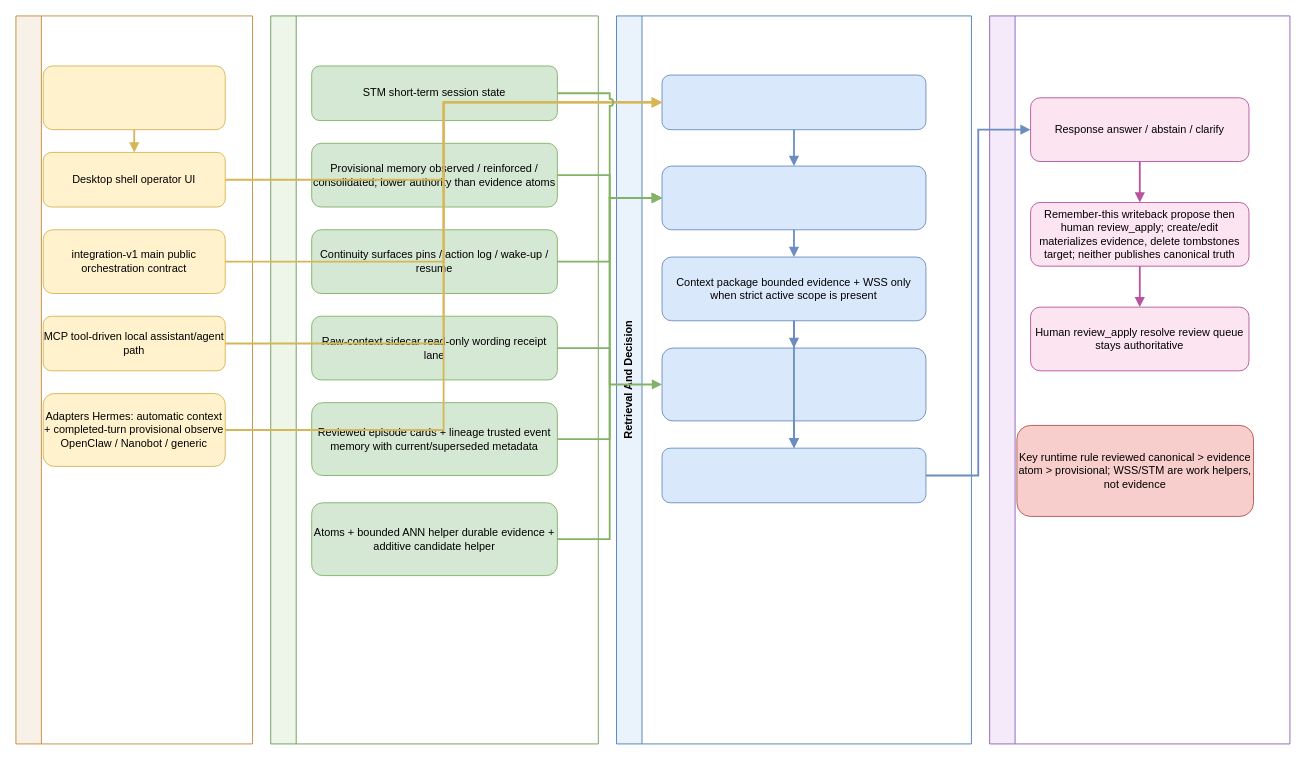
Some shapes in this 1306 by 760 pixel diagram are drawn without their labels. Here are the shapes that lost their labels. From the top down, the box of each, then its label:
(42, 65, 225, 130): Guided setup workspace one-click setup and target picker
(661, 74, 926, 130): Router + query shaping
(661, 165, 926, 230): Fusion + guarded shortlist shared-rule ranking and support checks
(15, 15, 253, 744): Entry Surfaces
(270, 15, 598, 744): Memory Layers
(661, 347, 926, 421): Quote / provenance expansion raw-context lane wakes only when explicitly needed
(989, 15, 1290, 744): Outputs And Governance
(661, 447, 926, 503): Responder + verifier
